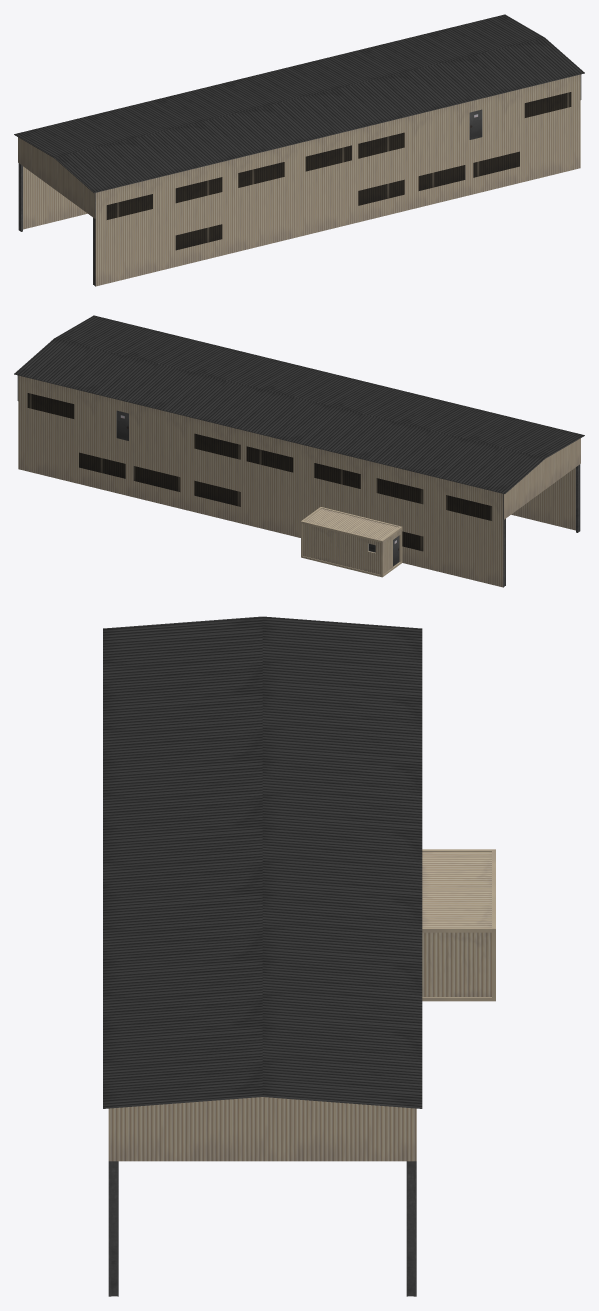
File: plant-building36.glb
The picture shows the model from 3 angles, top to bottom: view 1: azimuth 30°, elevation 25°; view 2: azimuth 150°, elevation 25°; view 3: azimuth 270°, elevation 25°; orthographic projection. The views are drawn at different scales.
Parts seen in each view (by area): view 1: Object8936467; view 2: Object8936467; view 3: Object8936467.
Part boxes in pixels (box(x1,y1,x2,y2)): Object8936467: box(14, 14, 584, 286); Object8936467: box(14, 315, 584, 587); Object8936467: box(103, 616, 495, 1296).
Size of the model in its own units: 41.5 by 8.21 by 14.39.
Materials: 1 (1 with a texture image).
